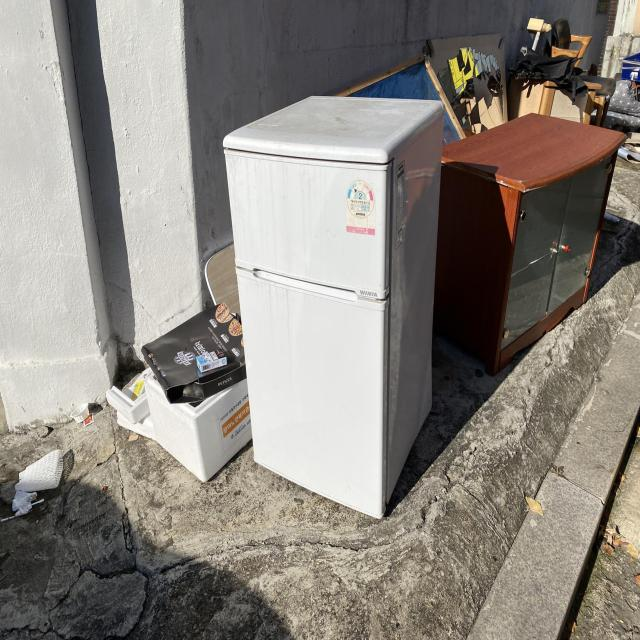refrigerator: (222, 95, 446, 520)
